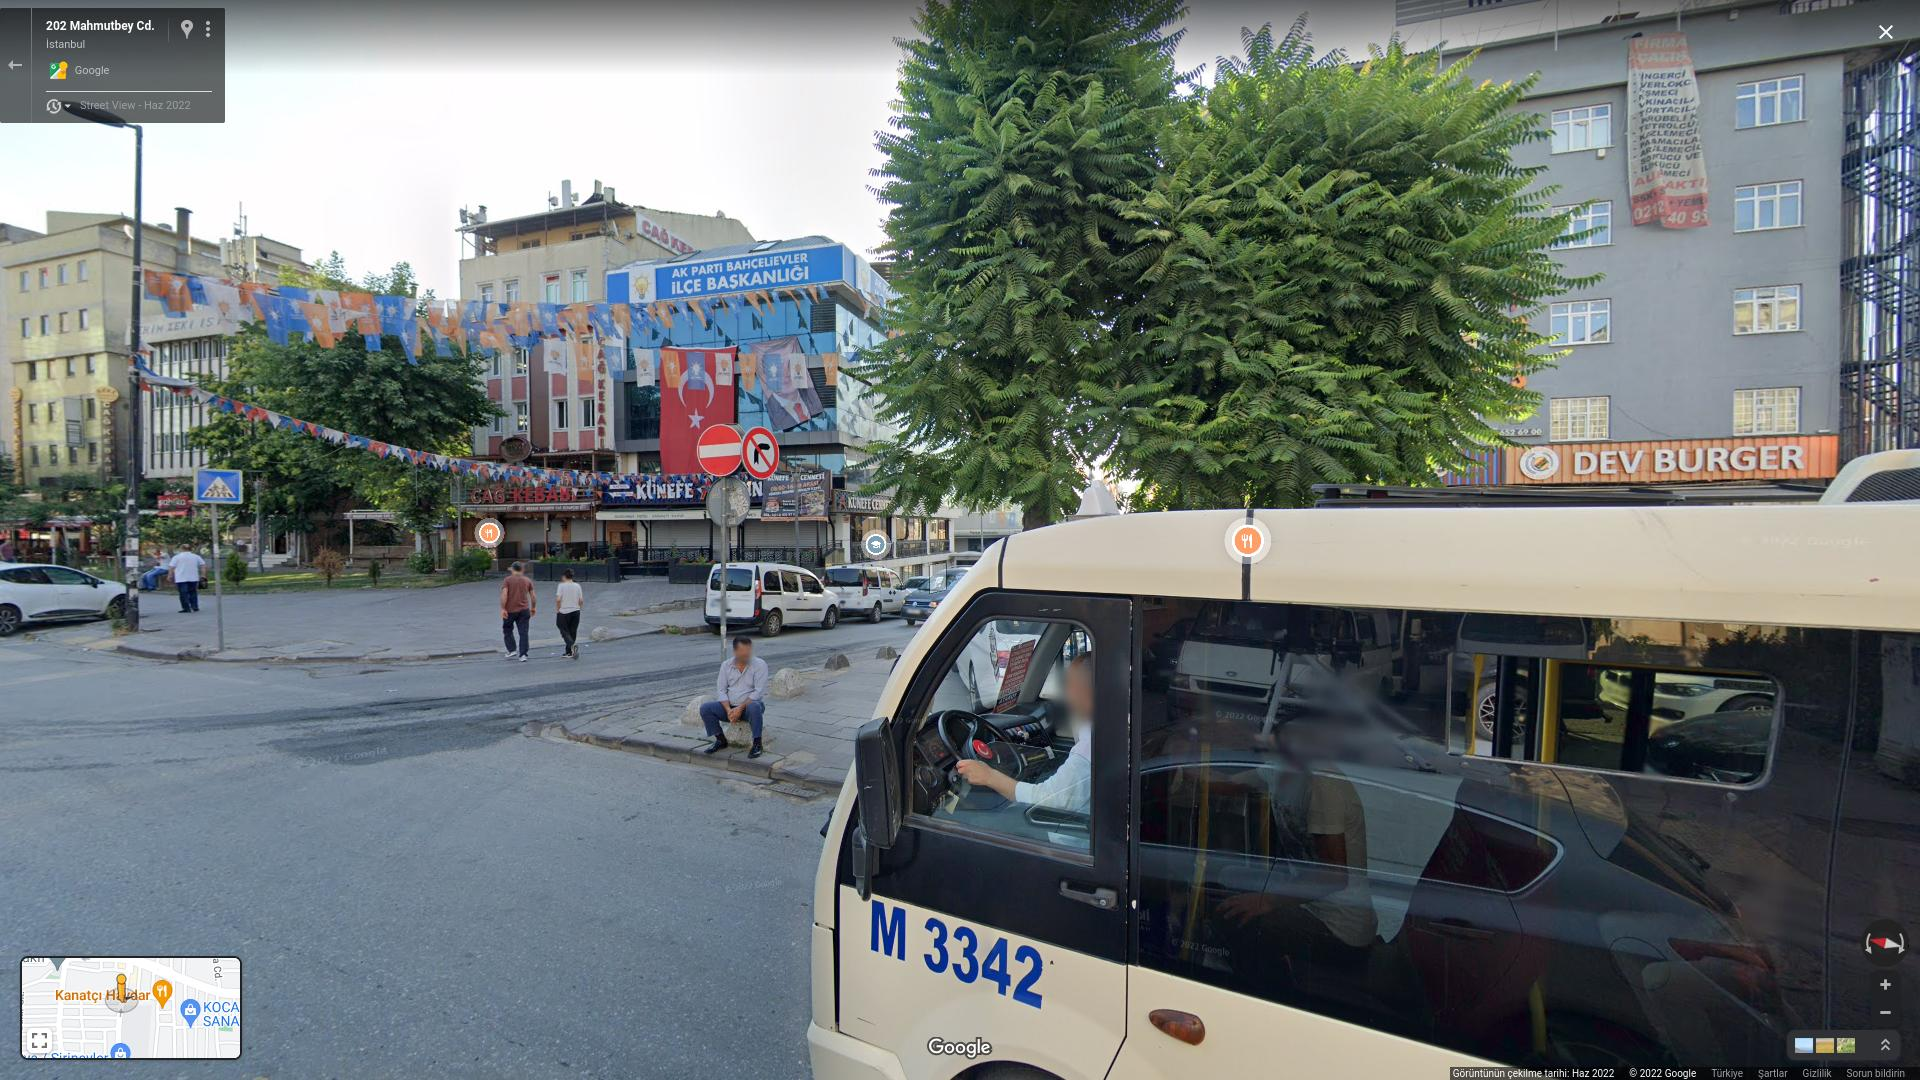rightturnsareforbidden: (741, 429, 779, 479)
